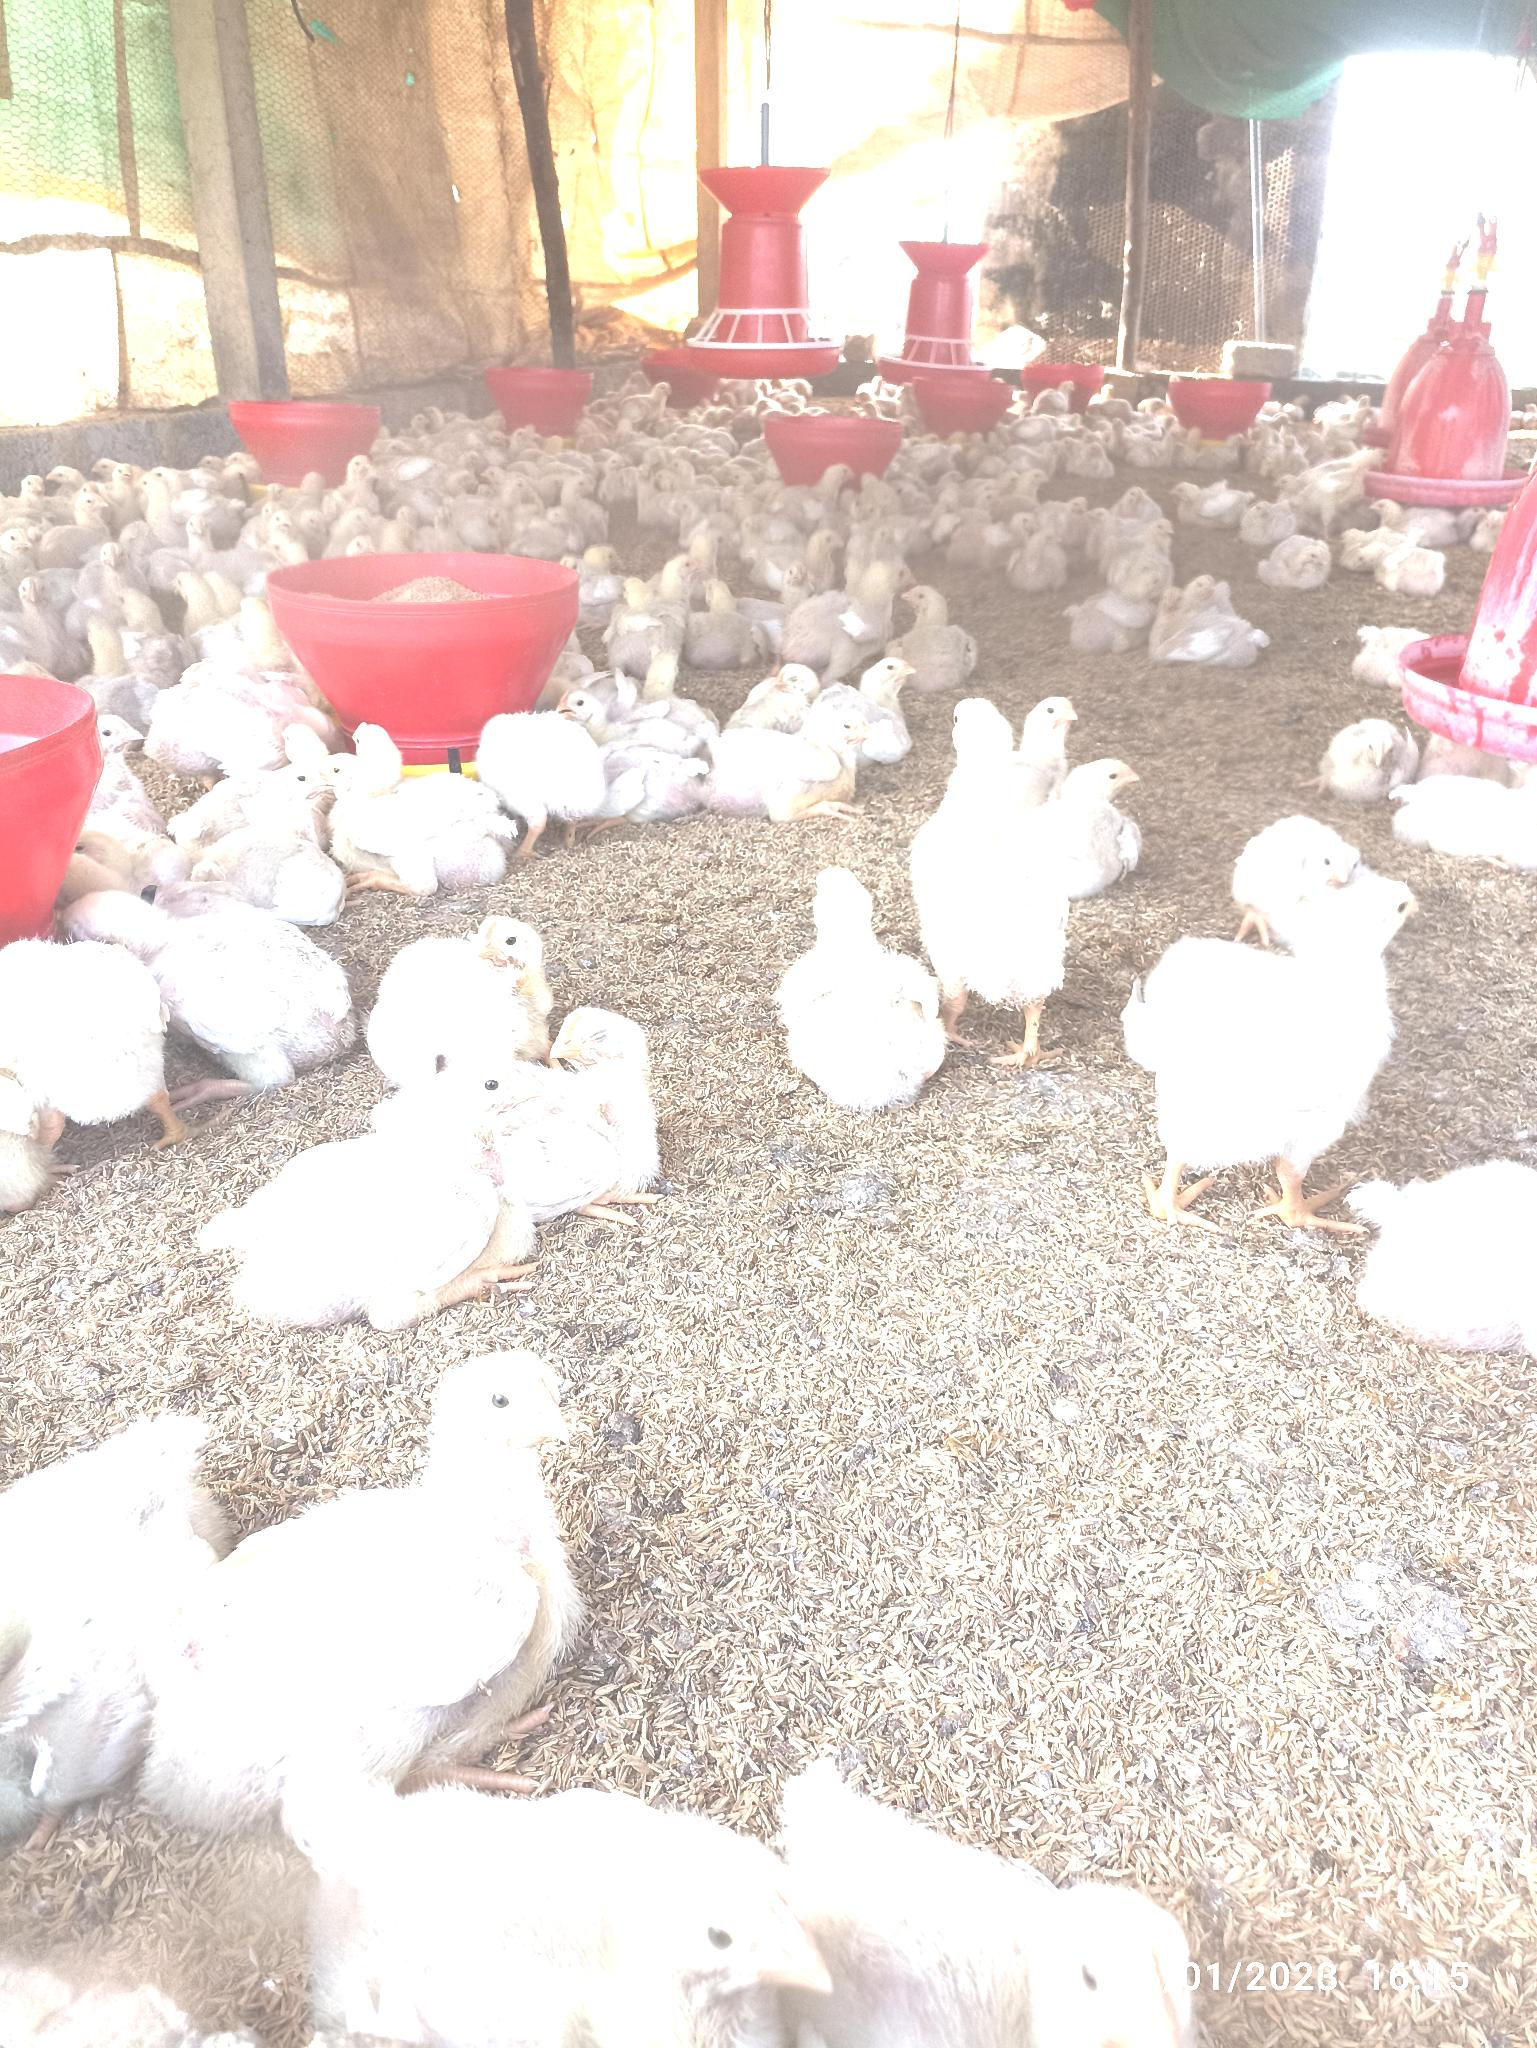Pollos: (182, 1346, 581, 1814), (266, 1770, 825, 2048), (833, 1766, 1212, 2046), (236, 1049, 534, 1336), (1133, 875, 1427, 1162), (66, 892, 360, 1075), (768, 862, 956, 1110), (920, 700, 1062, 989), (531, 1009, 685, 1212), (384, 909, 554, 1059), (318, 744, 500, 881), (702, 697, 872, 825), (462, 720, 655, 825), (213, 765, 336, 891), (1037, 757, 1145, 892), (781, 560, 911, 665), (610, 550, 706, 667), (1150, 578, 1271, 660), (1251, 817, 1358, 905), (1321, 713, 1424, 800), (899, 591, 986, 676), (748, 529, 840, 583), (1358, 541, 1443, 597), (1263, 534, 1334, 587), (1017, 521, 1075, 583), (1174, 483, 1258, 525), (1356, 628, 1409, 679)
